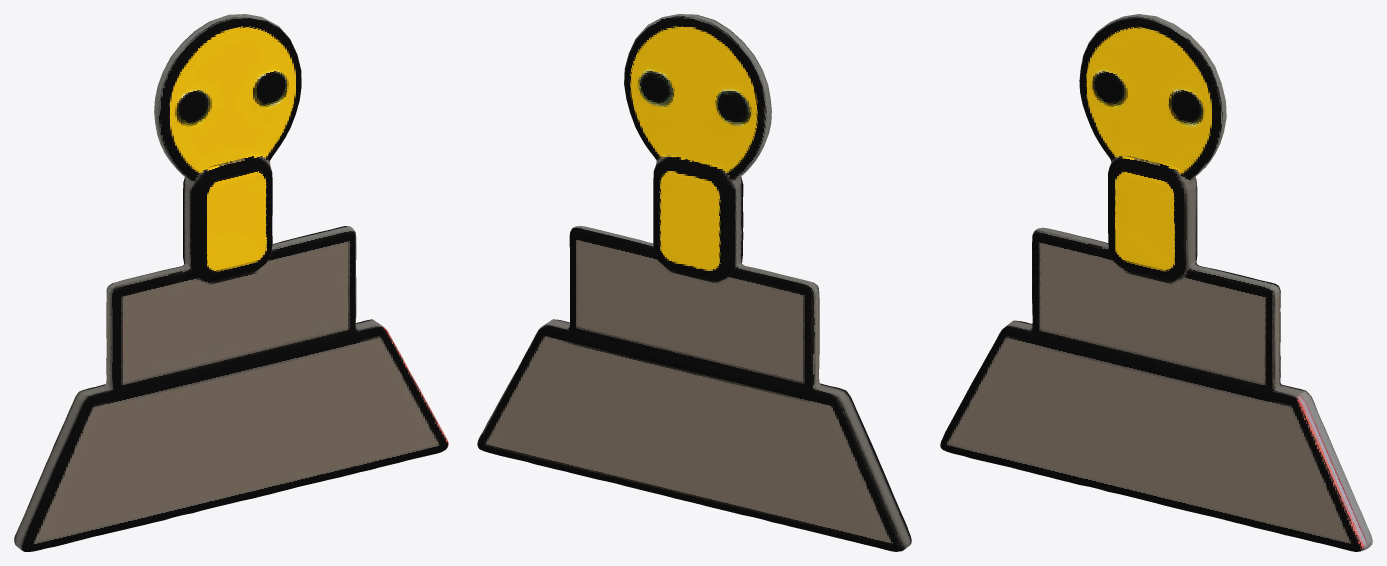
File: IdolAltar_QuadRetro.glb
3 views of the same model, side by side, from view 1: azimuth 30°, elevation 25°; view 2: azimuth 150°, elevation 25°; view 3: azimuth 330°, elevation 25° (orthographic).
Parts seen in each view (by area): view 1: IdolAltar_QuadRemesh; view 2: IdolAltar_QuadRemesh; view 3: IdolAltar_QuadRemesh.
Boxes of the visible parts, box(x1,y1,x2,y2) form: IdolAltar_QuadRemesh: box(14, 14, 448, 551); IdolAltar_QuadRemesh: box(477, 14, 911, 551); IdolAltar_QuadRemesh: box(940, 14, 1372, 551).
Bounding box in the file's own units: 1.84 × 2 × 0.128.
1 material, 1 textured.
